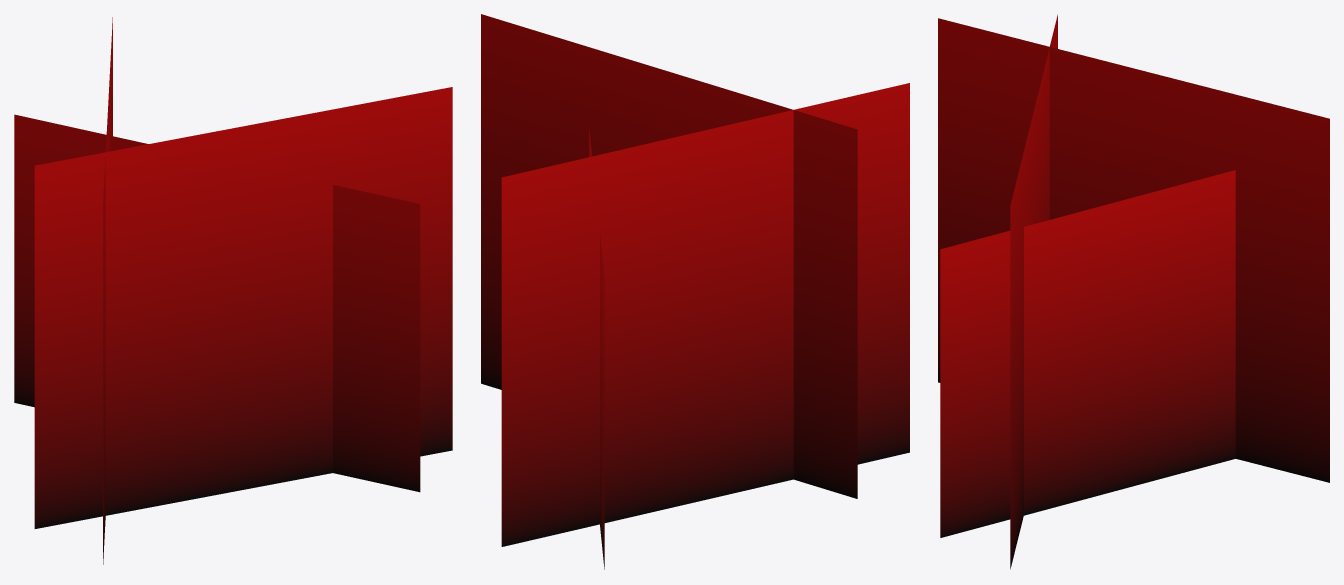
File: SM_ENV_PLANT_grass_village.FBX
The picture shows the model from 3 angles, left to right: view 1: azimuth 30°, elevation 25°; view 2: azimuth 150°, elevation 25°; view 3: azimuth 270°, elevation 25°; orthographic projection.
Visible parts, largest first — view 1: SM_ENV_PLANT_grass_village; view 2: SM_ENV_PLANT_grass_village; view 3: SM_ENV_PLANT_grass_village.
Part boxes in pixels (x1,y1,x2,y2): SM_ENV_PLANT_grass_village: [14, 17, 452, 564]; SM_ENV_PLANT_grass_village: [481, 14, 909, 569]; SM_ENV_PLANT_grass_village: [938, 14, 1329, 569].
Bounding box in the file's own units: 57.57 × 49.48 × 50.73.
